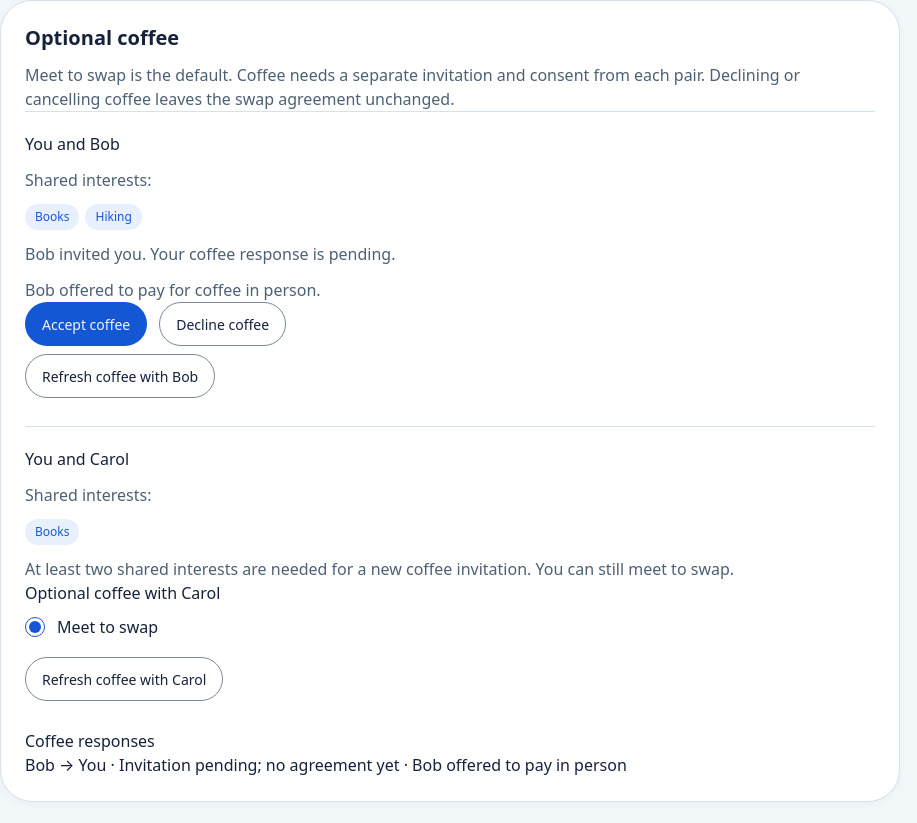
Test: decline is independent and pair history names both participants
Click the button "Decline coffee" at [223, 324], box [159, 302, 286, 346]
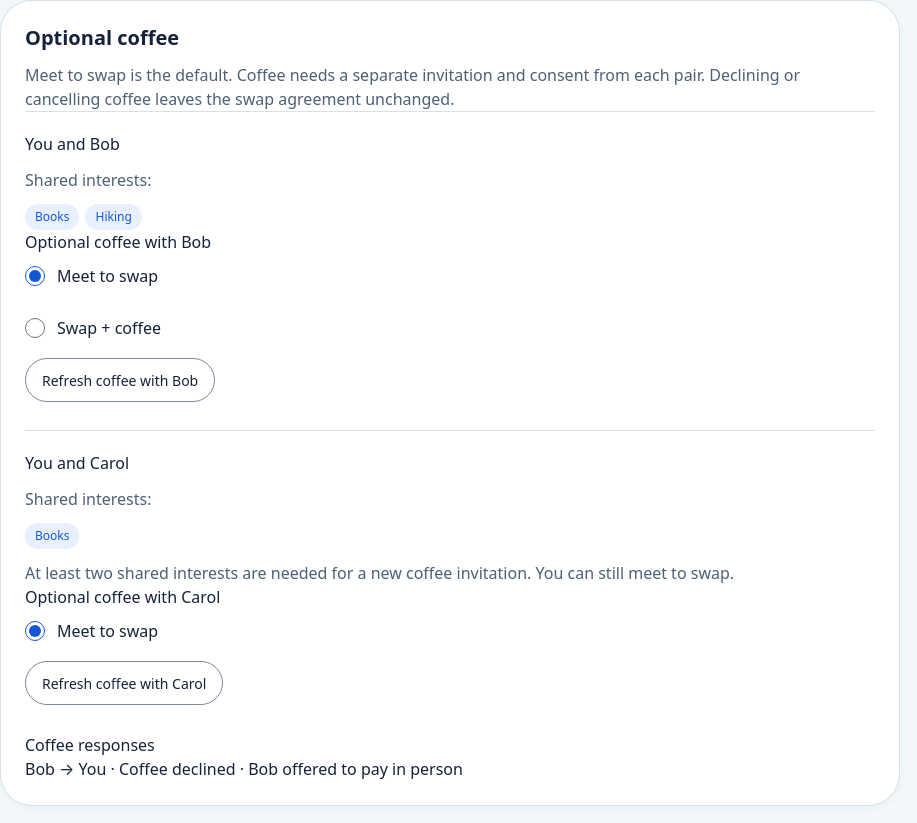
Expected: the list item "Bob → You · Coffee declined · Bob offered to pay in person" is shown, [25, 758, 463, 780]
